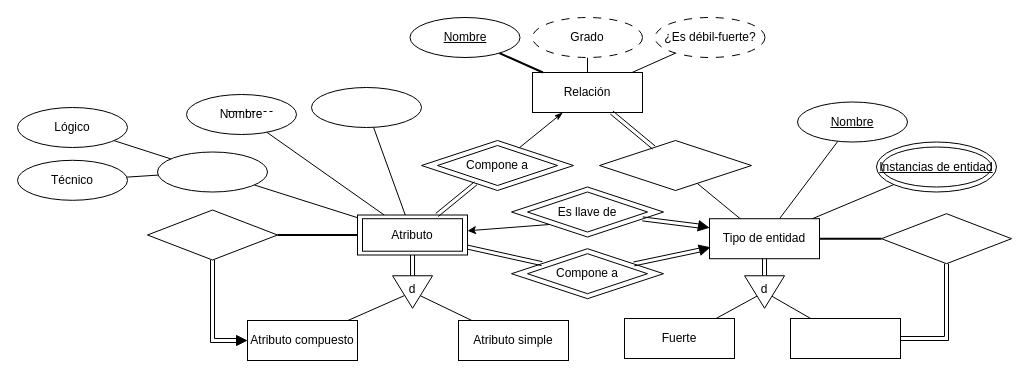
Image size: 1029x378. Some labels were removed from this diagram. The shapes that lost their labels are listed below. From the top down, each one's centre as x and y in pixels, then its label:
At pixel 366 107: "Requerido u opcional".
At pixel 212 171: "Dominio".
At pixel 675 165: "Relaciona a".
At pixel 212 234: "Se compone de".
At pixel 946 238: "Depende de".
At pixel 845 338: "Débil".
